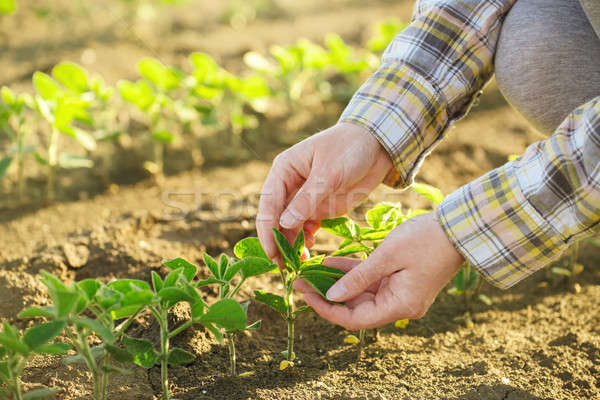soyabean: (20, 241, 256, 382)
